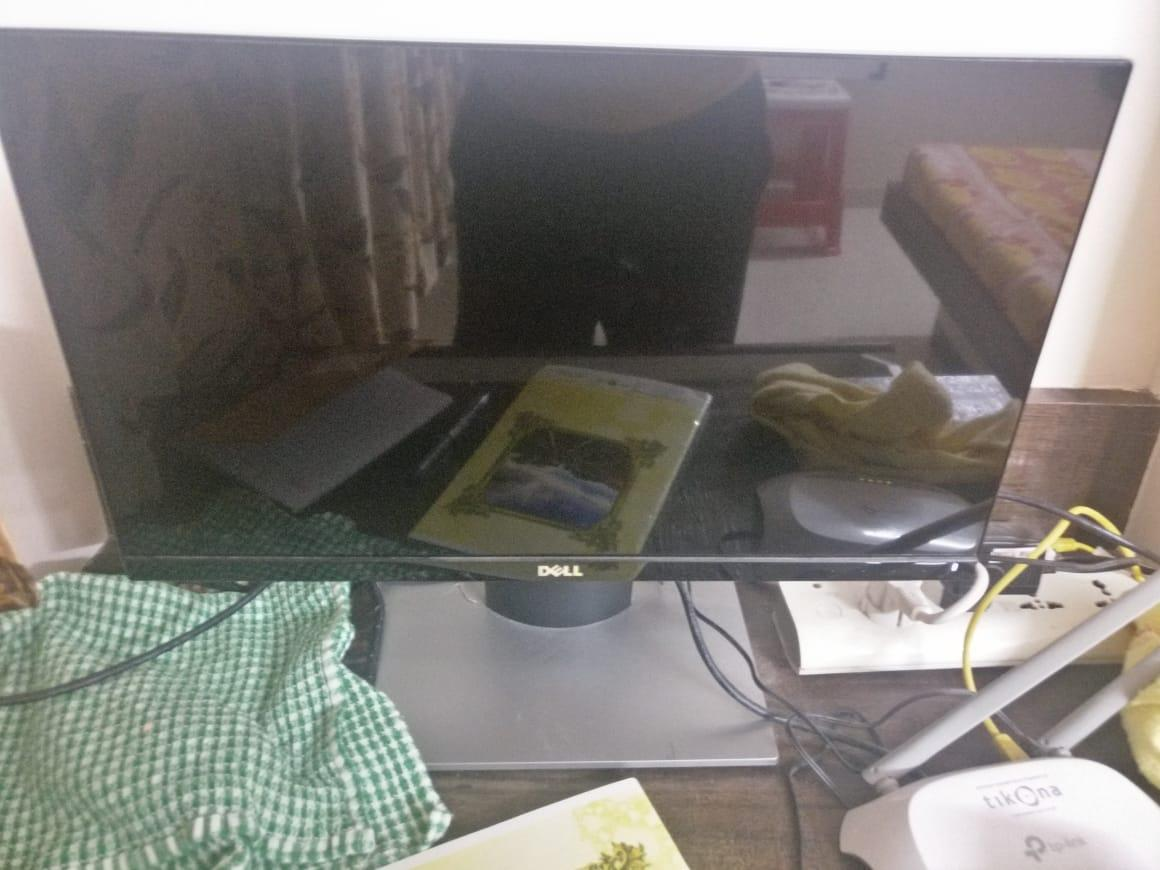monitor: (3, 19, 1141, 782)
